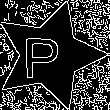P_N: (30, 30, 69, 81)
